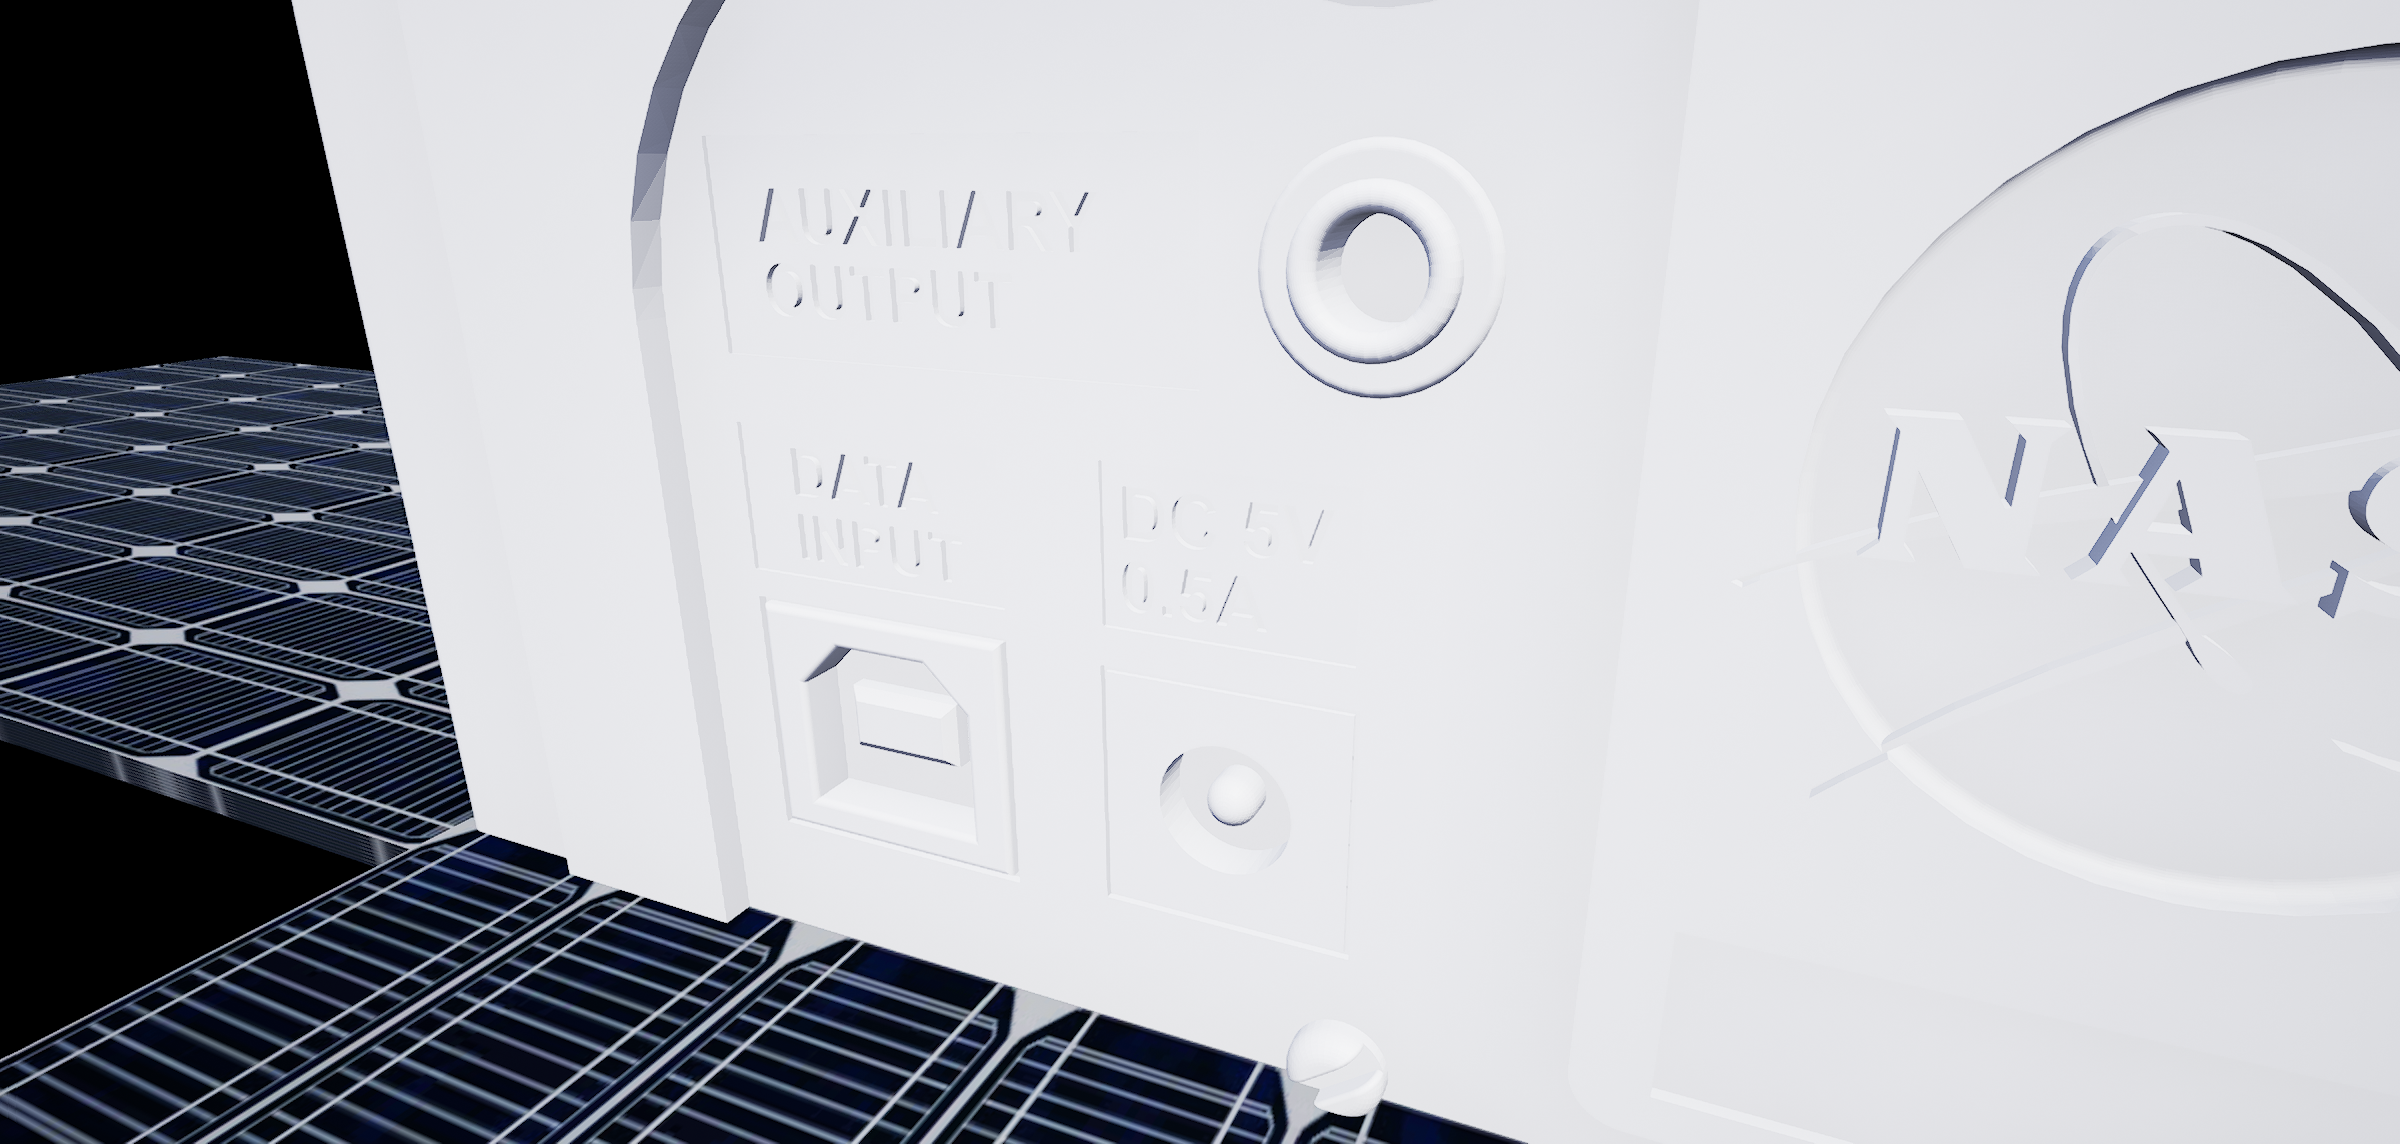aux: (1229, 121, 1524, 412)
dc: (1145, 727, 1303, 896)
usb: (788, 636, 996, 851)
